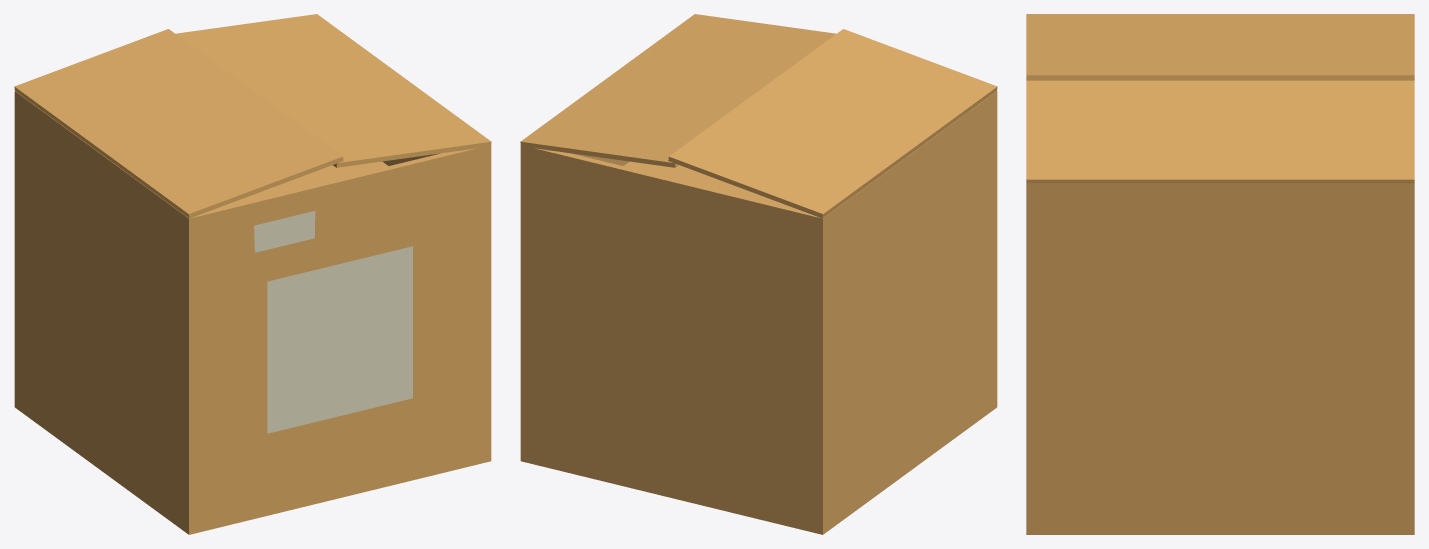
File: cardboardBox.fbx
3 views of the same model, side by side, from view 1: azimuth 30°, elevation 25°; view 2: azimuth 150°, elevation 25°; view 3: azimuth 270°, elevation 25° (orthographic). The views are drawn at different scales.
Visible parts, largest first — view 1: Cardboard Box; view 2: Cardboard Box; view 3: Cardboard Box.
Boxes of the visible parts, box(x1,y1,x2,y2) form: Cardboard Box: box(14, 14, 491, 534); Cardboard Box: box(520, 14, 997, 534); Cardboard Box: box(1026, 14, 1414, 534).
Size of the model in its own units: 42.86 by 42.79 by 46.12.
